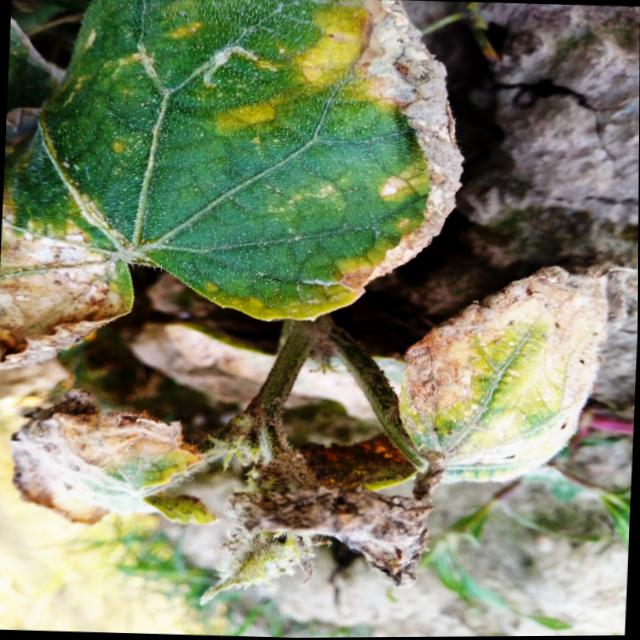Bacterial-Wilt: (399, 269, 614, 484), (226, 453, 445, 591)
